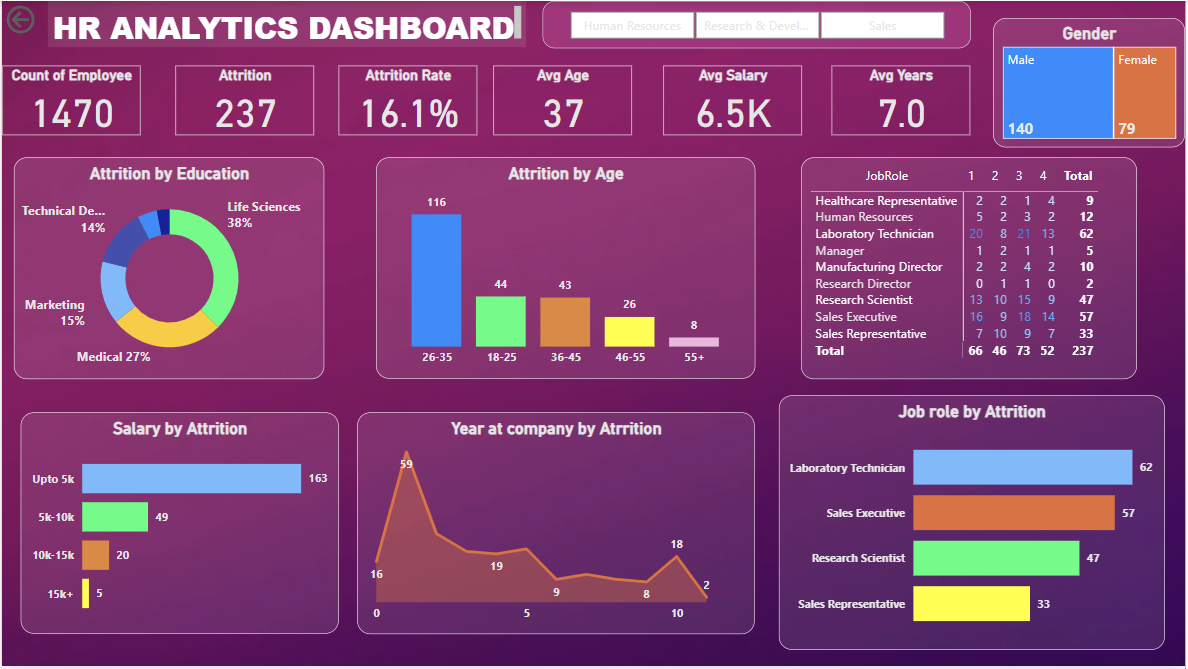

This screenshot's page, from the dashboard's own definition file:
{"tool":"powerbi","page":{"name":"Page 1","canvas":[1280,720],"ordinal":0},"visuals":[{"type":"card","title":"Count of Employee","fields":{"Values":["CountNonNull(HR_Analytics.EmpID)"]},"box":[0,70,150,75],"z":0},{"type":"card","title":"Attrition","fields":{"Values":["Sum(HR_Analytics.AttritionCount)"]},"box":[187.5,70,150,75],"z":1000},{"type":"card","title":"Attrition Rate","fields":{"Values":["HR_Analytics.AttritionRate"]},"box":[365,70,150,75],"z":2000},{"type":"actionButton","box":[0,0,100,40],"z":3000},{"type":"card","title":"Avg Salary","fields":{"Values":["Avg(HR_Analytics.MonthlyIncome)"]},"box":[715,70,150,75],"z":4000},{"type":"card","title":"Avg Age","fields":{"Values":["Avg(HR_Analytics.Age)"]},"box":[532.5,70,150,75],"z":5000},{"type":"card","title":"Avg Years","fields":{"Values":["Avg(HR_Analytics.YearsAtCompany)"]},"box":[897.5,70,150,75],"z":6000},{"type":"donutChart","title":"Attrition by Education","fields":{"Y":["Sum(HR_Analytics.AttritionCount)"],"Category":["HR_Analytics.EducationField"]},"box":[12.9,170,335.7,240],"z":7000},{"type":"columnChart","title":"Attrition by Age","fields":{"Category":["HR_Analytics.AgeGroup"],"Y":["Sum(HR_Analytics.AttritionCount)"]},"box":[404.8,169.3,410.3,239.2],"z":8000},{"type":"pivotTable","fields":{"Rows":["HR_Analytics.JobRole"],"Columns":["HR_Analytics.JobSatisfaction"],"Values":["Sum(HR_Analytics.AttritionCount)"]},"box":[865,170,363.3,240],"z":9000},{"type":"clusteredBarChart","title":" Salary by Attrition ","fields":{"Category":["HR_Analytics.SalarySlab"],"Y":["Sum(HR_Analytics.AttritionCount)"]},"box":[20.2,445.3,344.1,239.2],"z":10000},{"type":"clusteredBarChart","title":"Job role by Attrition ","fields":{"Y":["Sum(HR_Analytics.AttritionCount)"],"Category":["HR_Analytics.JobRole"]},"box":[840,427.5,417.5,275],"z":11000},{"type":"areaChart","title":"Year at company by Atrrition ","fields":{"Category":["HR_Analytics.YearsAtCompany"],"Y":["Sum(HR_Analytics.AttritionCount)"]},"box":[385,445,430,240],"z":12000},{"type":"treemap","title":"Gender","fields":{"Group":["HR_Analytics.Gender"],"Values":["Sum(HR_Analytics.AttritionCount)"]},"box":[1072.5,17.5,207.5,140],"z":13000},{"type":"slicer","fields":{"Values":["HR_Analytics.Department"]},"box":[585.4,0,463.4,51.2],"z":14000},{"type":"textbox","box":[50,0,517.5,50],"z":15000}]}

Visuals, with their boxes in screenshot pixels (x1, y1, x2, y2), scaled from the page's 1280x720 canvas onto the 1188x669 screenshot:
"Count of Employee" card: box(0, 65, 139, 135)
"Attrition" card: box(174, 65, 313, 135)
"Attrition Rate" card: box(339, 65, 478, 135)
actionButton: box(0, 0, 93, 37)
"Avg Salary" card: box(664, 65, 803, 135)
"Avg Age" card: box(494, 65, 633, 135)
"Avg Years" card: box(833, 65, 972, 135)
"Attrition by Education" donutChart: box(12, 158, 324, 381)
"Attrition by Age" columnChart: box(376, 157, 757, 380)
pivotTable - HR_Analytics.JobRole x HR_Analytics.JobSatisfaction: box(803, 158, 1140, 381)
" Salary by Attrition " clusteredBarChart: box(19, 414, 338, 636)
"Job role by Attrition " clusteredBarChart: box(780, 397, 1167, 653)
"Year at company by Atrrition " areaChart: box(357, 413, 756, 636)
"Gender" treemap: box(995, 16, 1187, 146)
slicer - HR_Analytics.Department: box(543, 0, 973, 48)
textbox: box(46, 0, 527, 46)
